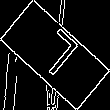L_SW: (28, 26, 82, 84)
